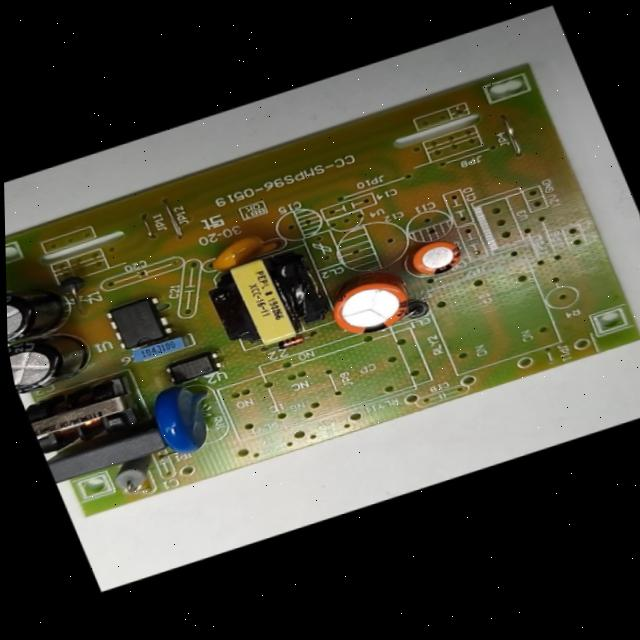Cap1: (319, 263, 421, 346)
Cap2: (404, 232, 469, 285)
Cap3: (7, 319, 100, 397)
Cap4: (6, 266, 84, 346)
MOSFET: (102, 290, 178, 357)
Mov: (139, 370, 229, 466)
Resistor: (108, 452, 165, 497)
Transformer: (197, 238, 338, 362), (22, 371, 149, 462)
